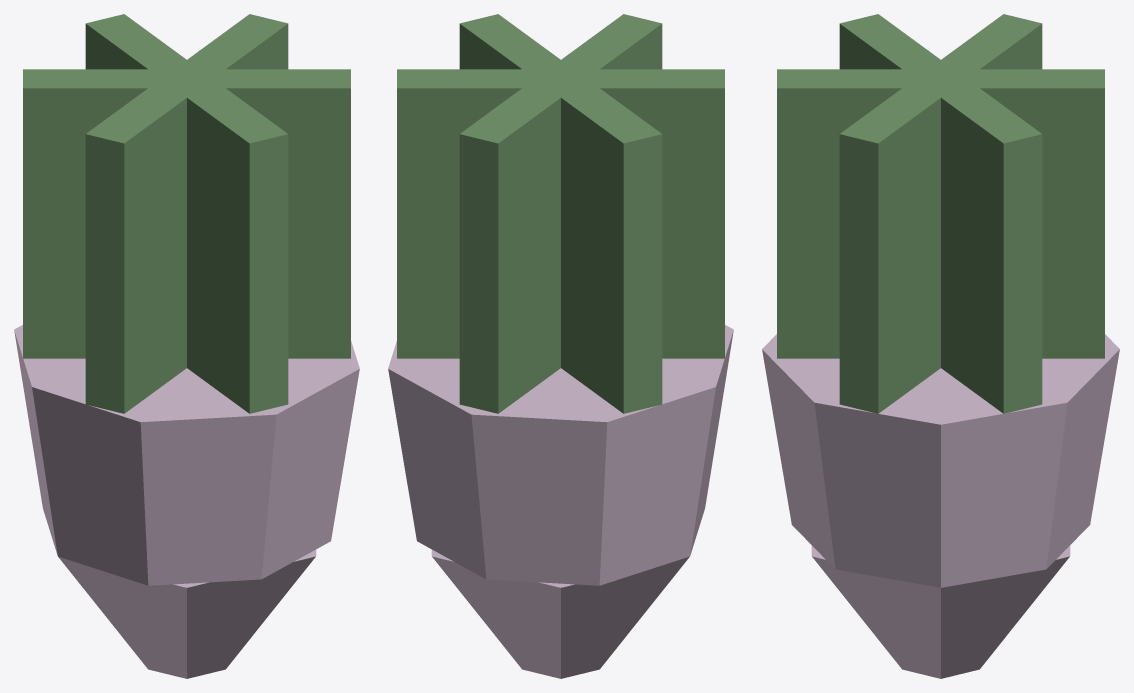
File: hs_turnip.glb
The picture shows the model from 3 angles, left to right: view 1: azimuth 30°, elevation 25°; view 2: azimuth 150°, elevation 25°; view 3: azimuth 270°, elevation 25°; orthographic projection.
Parts seen in each view (by area): view 1: hs_turnip; view 2: hs_turnip; view 3: hs_turnip.
Part boxes in pixels (x1,y1,x2,y2): hs_turnip: (14, 14, 359, 678); hs_turnip: (388, 14, 733, 678); hs_turnip: (762, 14, 1119, 678).
Bounding box in the file's own units: 0.24 × 0.43 × 0.24.
